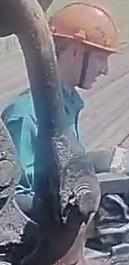helmet: (47, 1, 121, 55)
vest: (1, 89, 88, 215)
